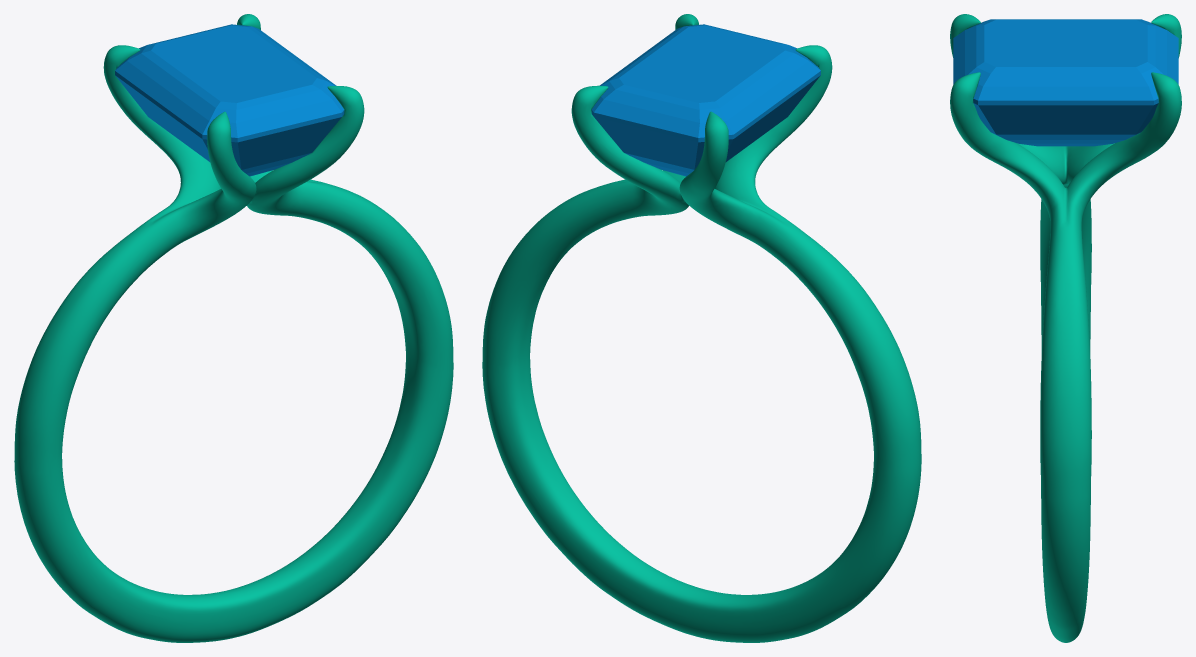
Rendered from BE1343_EM_200ct_RENDER.glb.
3 views of the same model, side by side, from view 1: azimuth 30°, elevation 25°; view 2: azimuth 150°, elevation 25°; view 3: azimuth 270°, elevation 25° (orthographic).
Parts seen in each view (by area): view 1: Metal 01, CS_Diamond_Emerald; view 2: Metal 01, CS_Diamond_Emerald; view 3: Metal 01, CS_Diamond_Emerald.
Part boxes in pixels (x1,y1,x2,y2): Metal 01: (14, 14, 453, 642); CS_Diamond_Emerald: (115, 24, 344, 176); Metal 01: (482, 14, 921, 642); CS_Diamond_Emerald: (591, 24, 820, 176); Metal 01: (950, 14, 1181, 642); CS_Diamond_Emerald: (953, 19, 1178, 146).
Size of the model in its own units: 20.07 by 25.41 by 9.27.
